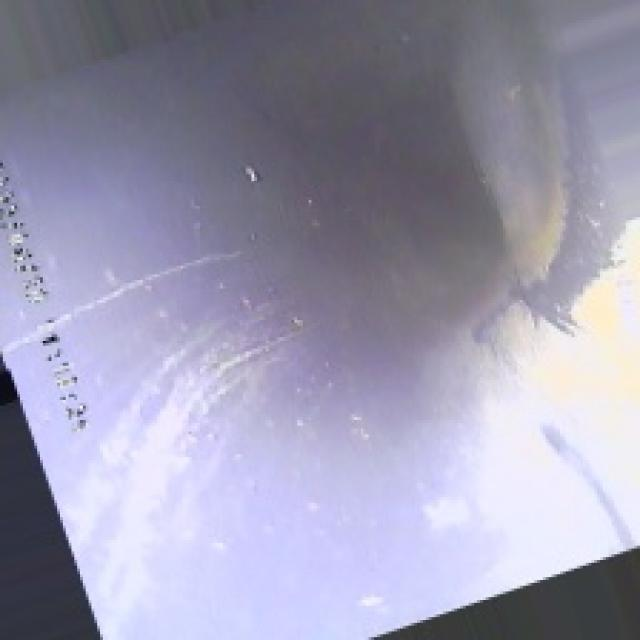shape_deformation: (125, 34, 606, 409)
